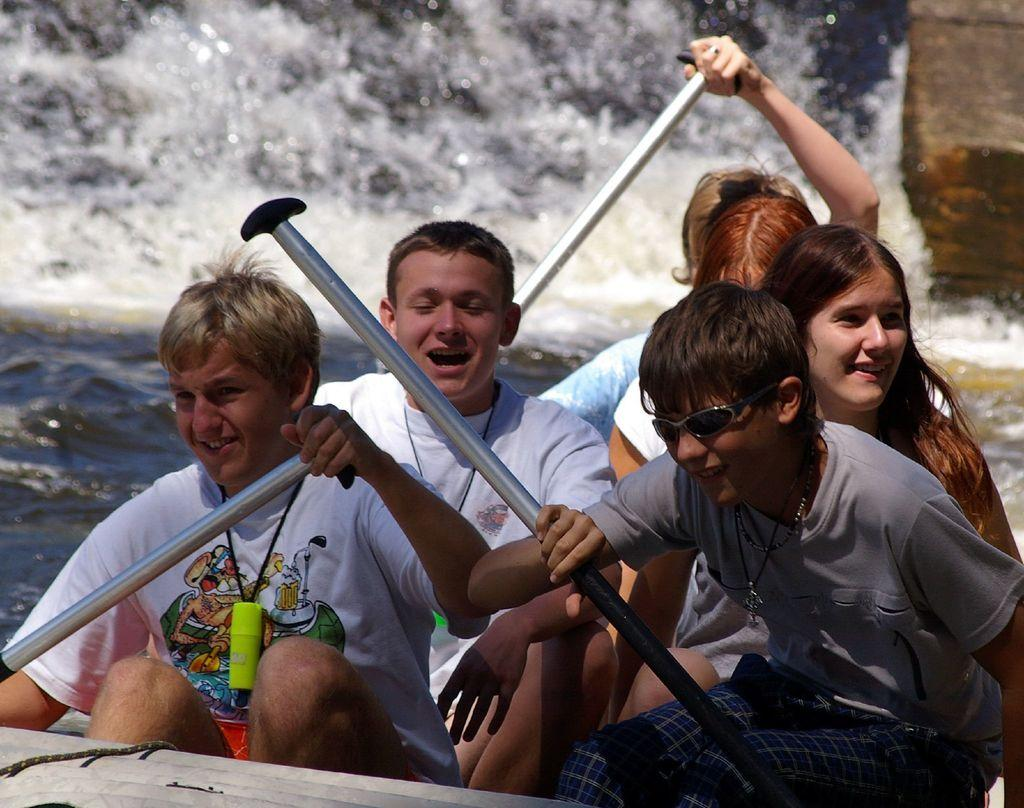Sem Máscara: (388, 247, 502, 398), (646, 385, 775, 512), (174, 338, 286, 482), (802, 275, 912, 406)
